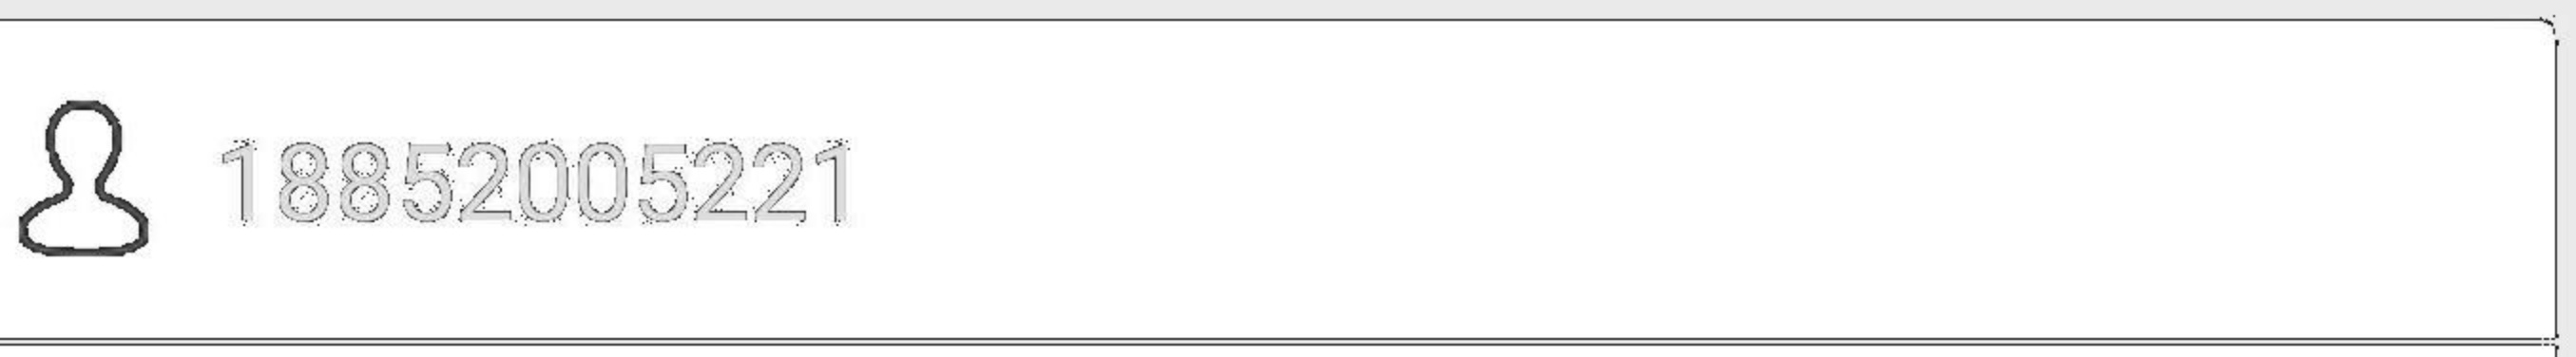EditText: (2, 2, 2574, 355)
